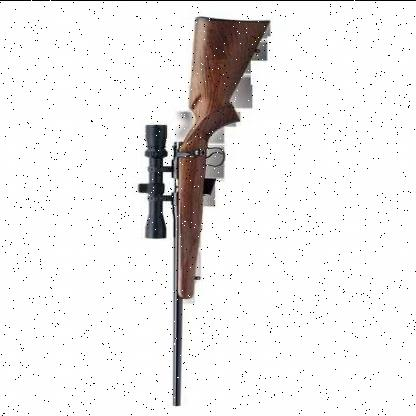rifle: (102, 15, 284, 397)
